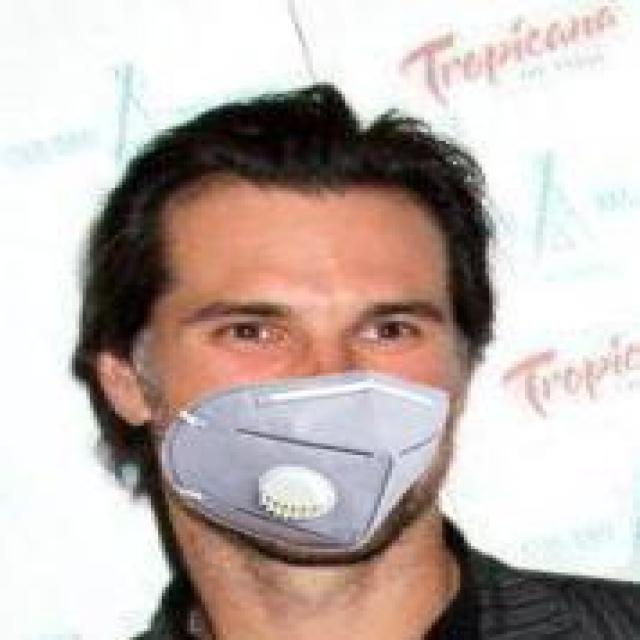mask: (72, 62, 525, 587)
